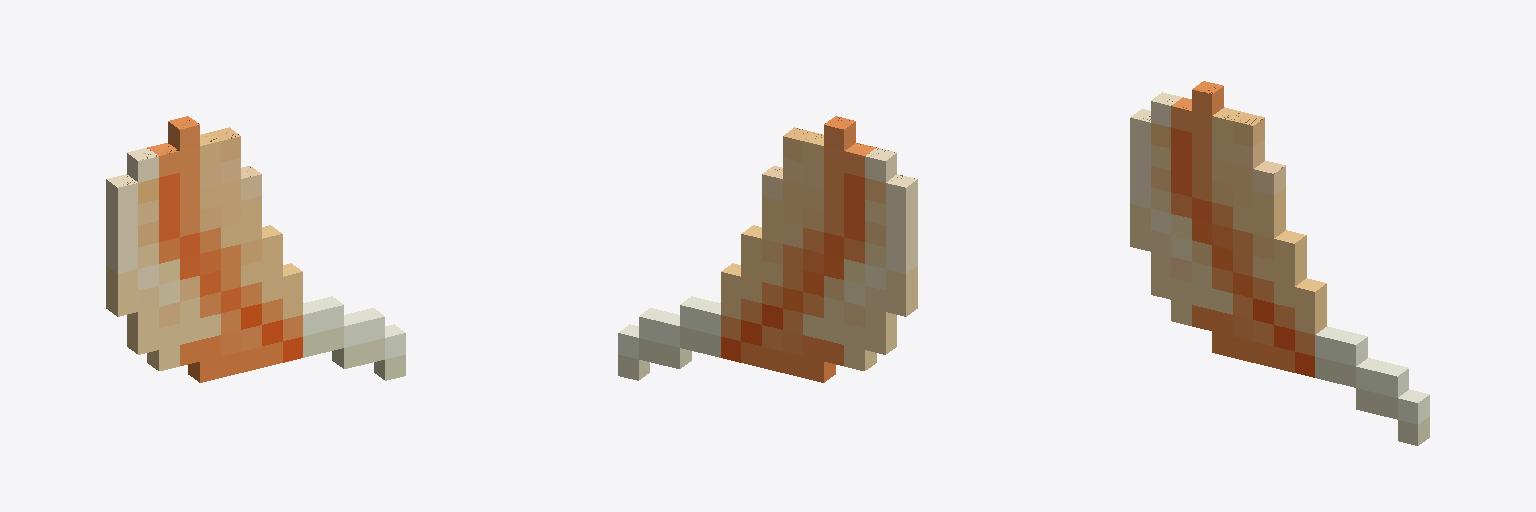
3 views of the same model, side by side, from view 1: azimuth 30°, elevation 25°; view 2: azimuth 150°, elevation 25°; view 3: azimuth 330°, elevation 25° (orthographic).
Size of the model in its own units: 0.875 by 0.875 by 0.0625.
Materials: 1 (1 with a texture image).